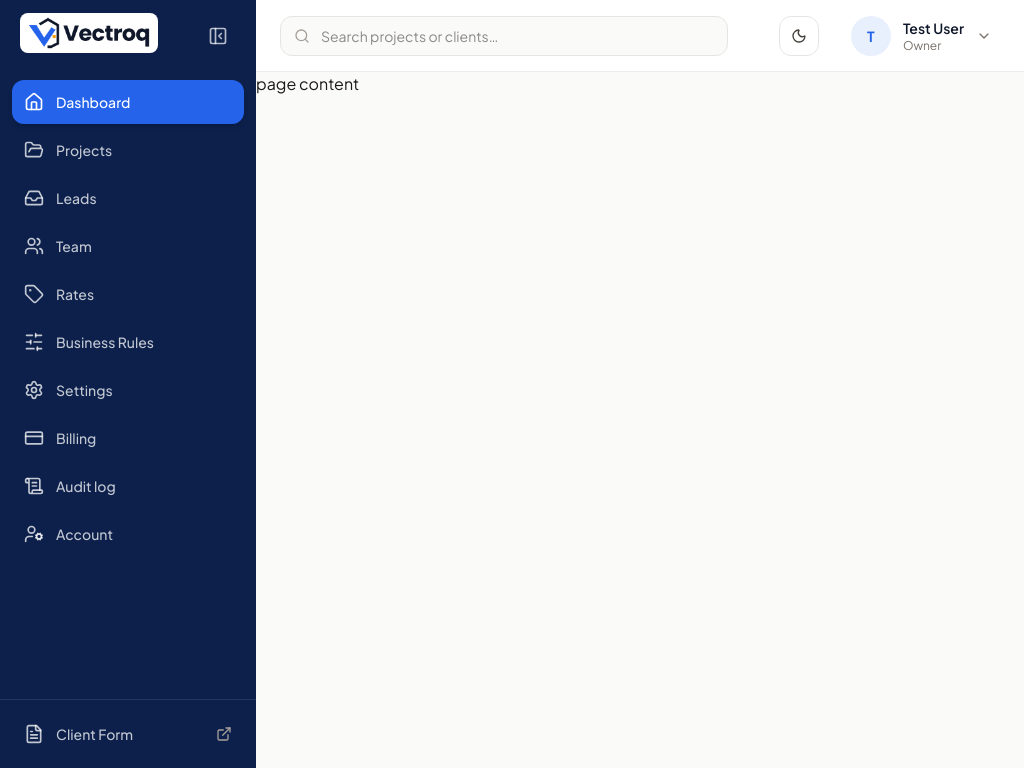
Scenario: OfficeShell › collapses the sidebar and remembers it
Step 1. Click the button named "Collapse sidebar" → [218, 36], box [200,18,236,54]
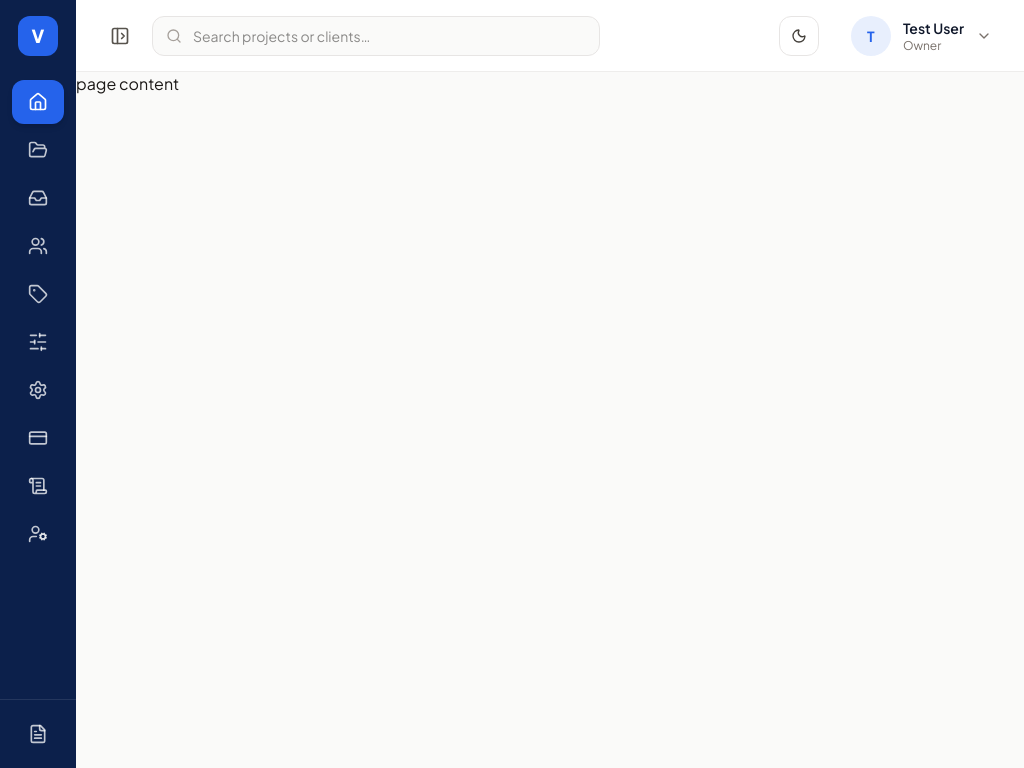
Result: the button named "Expand sidebar" is shown at [100,16,140,56]
